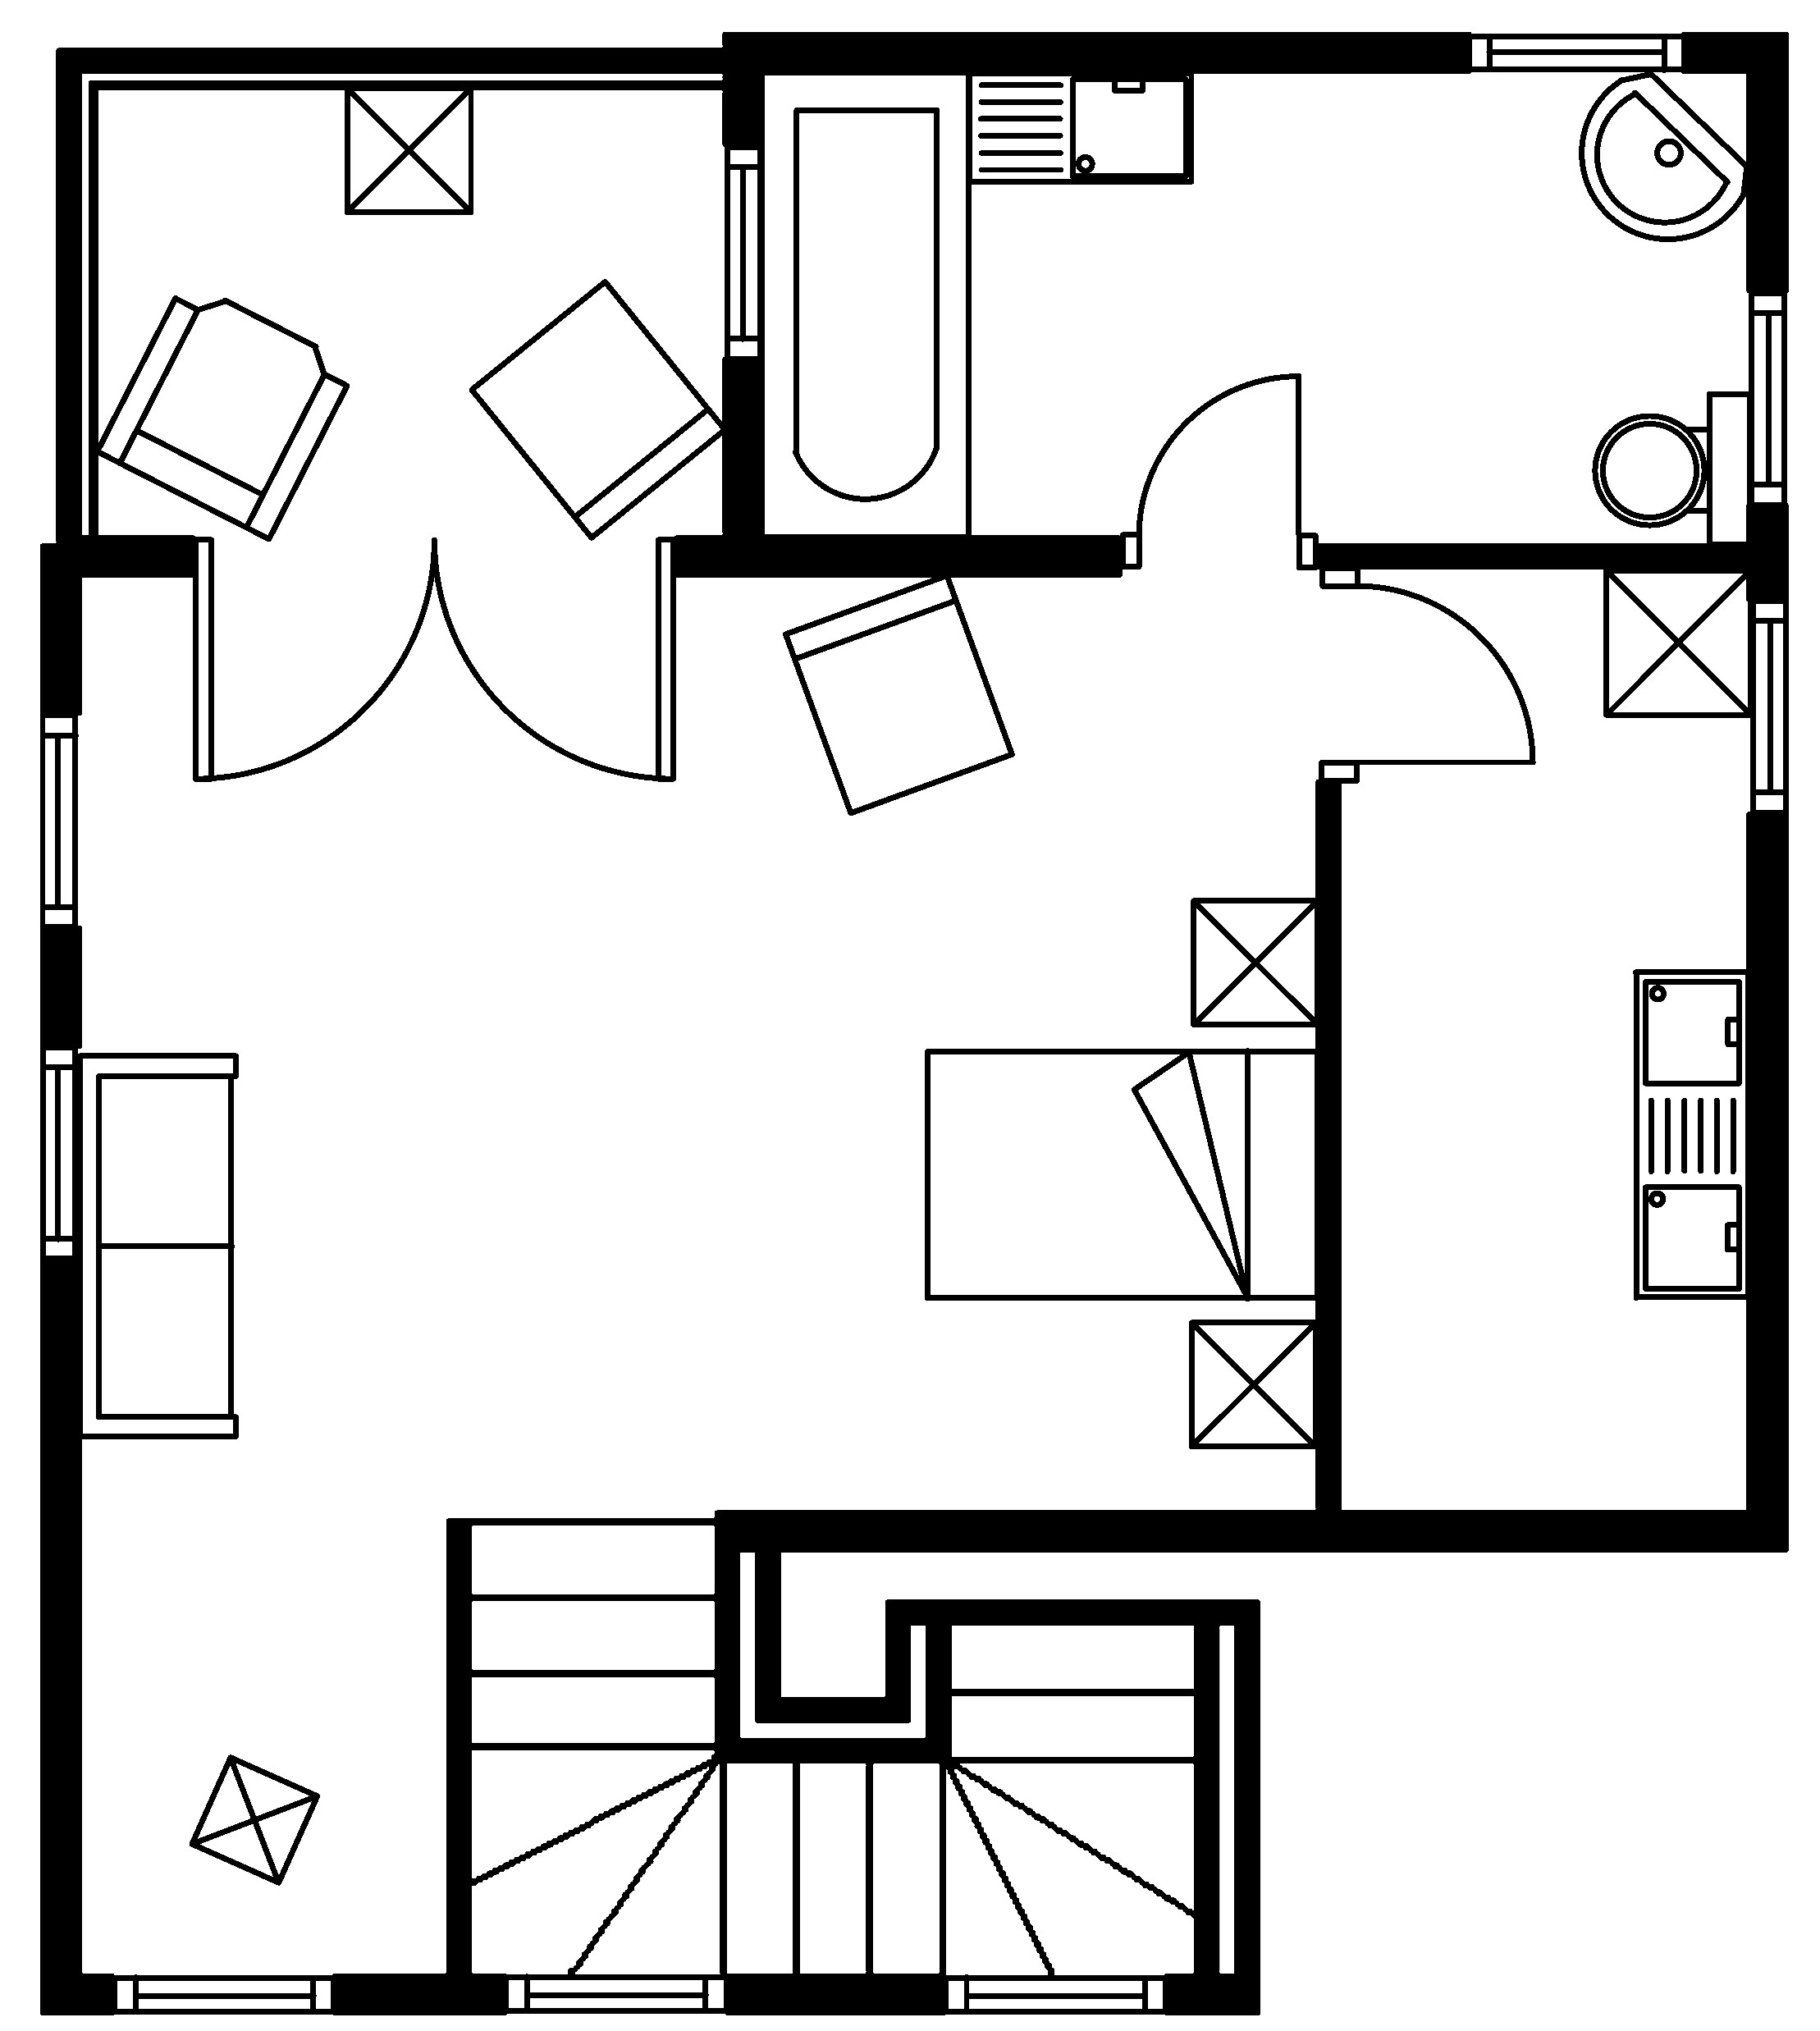armchair: (93, 293, 350, 543)
bed: (922, 1047, 1321, 1302)
coffee_table: (1602, 566, 1753, 719), (1186, 1318, 1319, 1449), (186, 1753, 320, 1885), (1189, 896, 1321, 1028), (343, 84, 474, 214)
large_sink: (1592, 388, 1753, 548)
large_sofa: (76, 1051, 239, 1439)
sink: (964, 69, 1195, 184)
small_sink: (1578, 70, 1750, 241)
small_sofa: (467, 278, 727, 541), (782, 571, 1015, 815)
tub: (757, 69, 971, 539)
twin_sink: (1630, 968, 1751, 1302)
